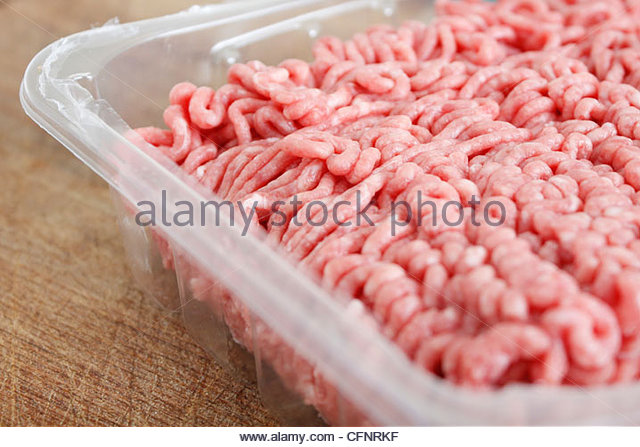ground_beef: (192, 34, 634, 318)
